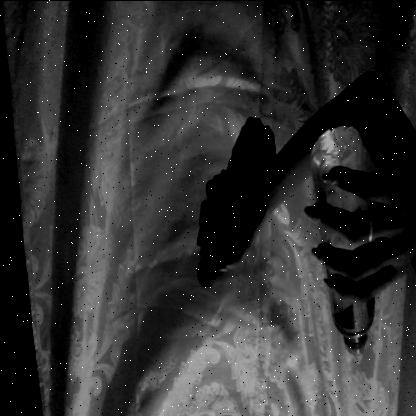Plastic Bottle: (301, 102, 388, 375)
